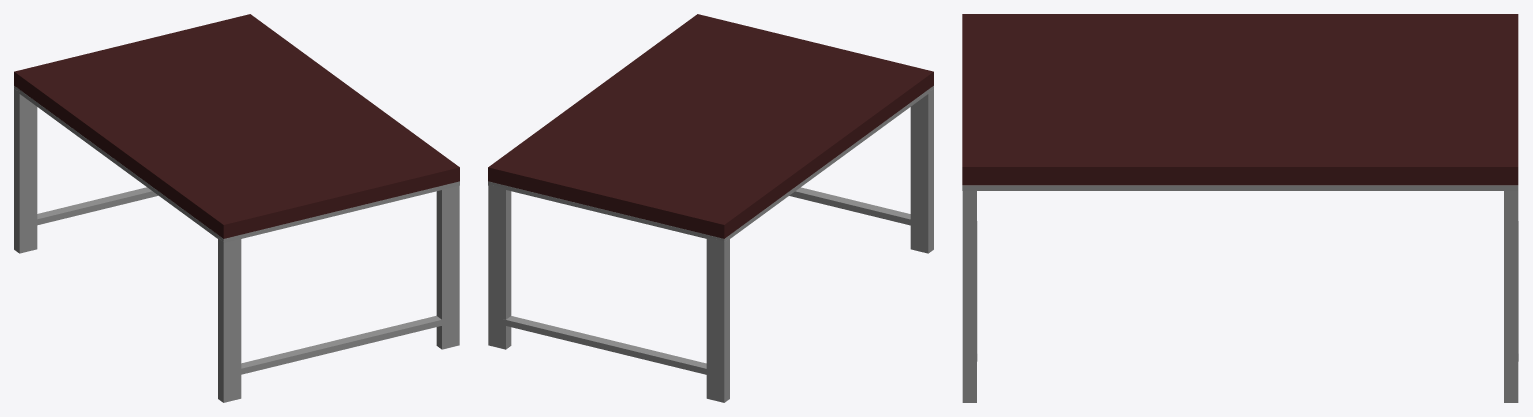
The model's file is Table 1.FBX.
The picture shows the model from 3 angles, left to right: view 1: azimuth 30°, elevation 25°; view 2: azimuth 150°, elevation 25°; view 3: azimuth 270°, elevation 25°; orthographic projection. The views are drawn at different scales.
Visible parts, largest first — view 1: table 1; view 2: table 1; view 3: table 1.
Part boxes in pixels (box(x1,y1,x2,y2)): table 1: box(14, 14, 459, 402); table 1: box(488, 14, 933, 402); table 1: box(962, 14, 1518, 402).
Bounding box in the file's own units: 502 × 361 × 772.
3 materials, 1 textured.
